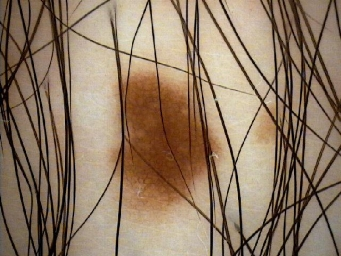nevus: (113, 73, 218, 206), (251, 99, 284, 143)
